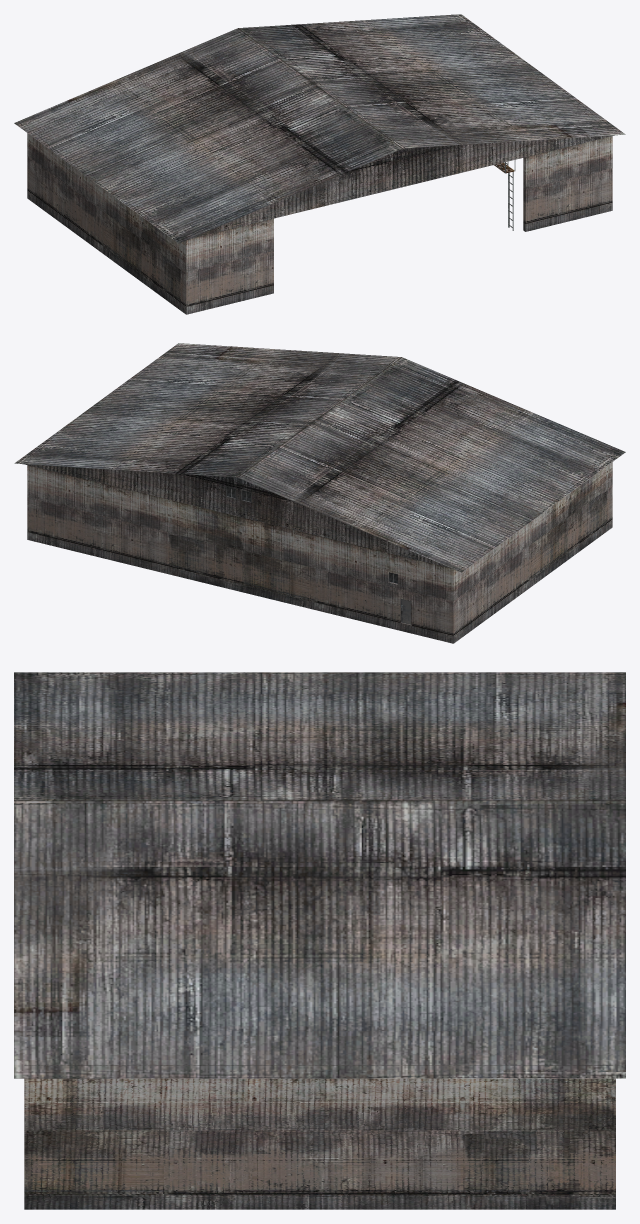
The model's file is moghng01.glb.
The picture shows the model from 3 angles, top to bottom: view 1: azimuth 30°, elevation 25°; view 2: azimuth 150°, elevation 25°; view 3: azimuth 270°, elevation 25°; orthographic projection. The views are drawn at different scales.
Visible parts, largest first — view 1: _moghng01; view 2: _moghng01; view 3: _moghng01.
Part boxes in pixels (x1=…): _moghng01: x1=14, y1=14, x2=625, y2=314; _moghng01: x1=14, y1=343, x2=625, y2=643; _moghng01: x1=14, y1=672, x2=625, y2=1209.
Size of the model in its own units: 72.59 by 18.73 by 46.26.
Materials: 2 (2 with a texture image).
